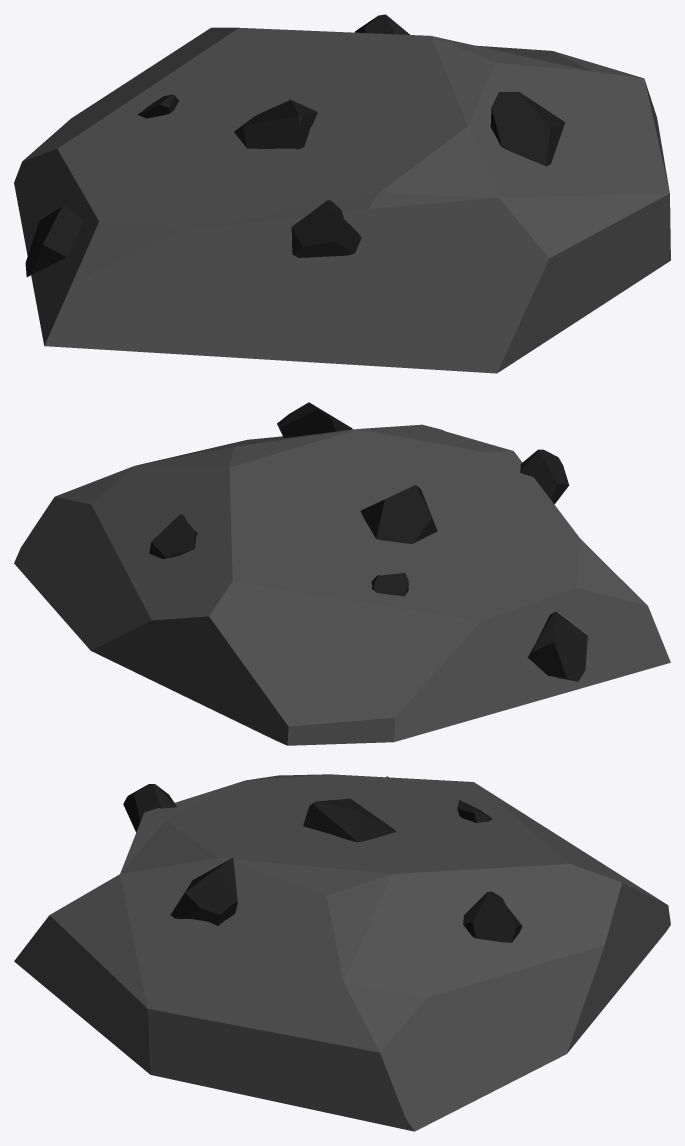
Rendered from Wh_Coal_Pile.fbx.
The picture shows the model from 3 angles, top to bottom: view 1: azimuth 30°, elevation 25°; view 2: azimuth 150°, elevation 25°; view 3: azimuth 270°, elevation 25°; orthographic projection. The views are drawn at different scales.
Visible parts, largest first — view 1: LowPolyRock.009; view 2: LowPolyRock.009; view 3: LowPolyRock.009.
Part boxes in pixels (x1,y1,x2,y2): LowPolyRock.009: (14, 14, 670, 373); LowPolyRock.009: (14, 402, 670, 745); LowPolyRock.009: (14, 774, 670, 1131).
Size of the model in its own units: 341 by 80.44 by 302.
